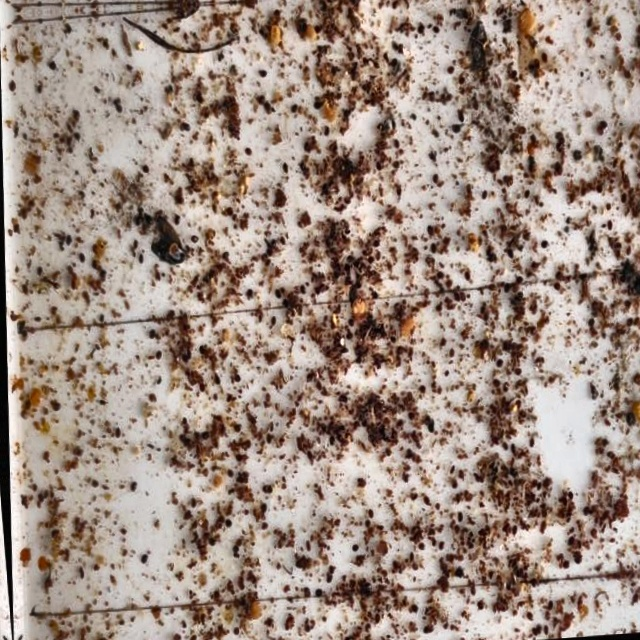varroa: (129, 476, 140, 494), (264, 609, 274, 628), (356, 552, 367, 567), (423, 88, 433, 104), (49, 526, 61, 539), (258, 499, 267, 516), (309, 100, 321, 112), (260, 483, 273, 494), (138, 161, 148, 175), (183, 508, 193, 522), (413, 23, 423, 37), (455, 567, 465, 581), (570, 150, 580, 164), (320, 121, 328, 138), (90, 477, 99, 492), (18, 281, 27, 296), (254, 68, 265, 80), (314, 587, 324, 600), (260, 520, 270, 533), (428, 24, 438, 37), (410, 600, 420, 613), (475, 600, 485, 613), (113, 426, 121, 442), (200, 609, 208, 625), (143, 212, 152, 226), (175, 119, 184, 133), (305, 446, 312, 464), (318, 419, 327, 433), (508, 468, 517, 482), (495, 357, 504, 371), (200, 428, 211, 439), (141, 550, 149, 565), (35, 490, 43, 505), (188, 231, 198, 243), (350, 542, 360, 554), (300, 138, 308, 153), (431, 304, 441, 316), (96, 268, 105, 281), (297, 282, 306, 295), (254, 95, 263, 108), (449, 124, 458, 137), (439, 540, 448, 553), (553, 142, 562, 155), (132, 212, 140, 226), (512, 522, 520, 536), (510, 444, 518, 458), (338, 394, 348, 405), (269, 8, 279, 19), (209, 436, 218, 448), (486, 254, 495, 266), (514, 366, 523, 378), (551, 162, 560, 174), (147, 326, 154, 341), (259, 99, 266, 114), (454, 110, 461, 125), (393, 184, 400, 199), (544, 609, 551, 624), (528, 435, 535, 450), (457, 291, 464, 306), (425, 225, 432, 240), (5, 78, 13, 91), (327, 562, 335, 575), (189, 495, 197, 508), (319, 182, 327, 195), (344, 251, 352, 264), (347, 317, 355, 330), (422, 494, 430, 507), (500, 381, 508, 394), (479, 190, 487, 203), (484, 246, 492, 259), (223, 518, 233, 528), (218, 249, 228, 259), (231, 544, 240, 555), (262, 259, 271, 270), (387, 333, 396, 344), (513, 275, 522, 286), (326, 573, 334, 585), (197, 342, 205, 354), (287, 103, 295, 115), (427, 421, 435, 433), (89, 257, 96, 270), (76, 251, 83, 264), (280, 161, 287, 174), (328, 434, 335, 447), (373, 159, 380, 172), (463, 270, 470, 283), (505, 248, 512, 261), (522, 188, 529, 201), (136, 251, 142, 266), (233, 550, 242, 560), (243, 288, 252, 298), (263, 248, 272, 258), (596, 122, 606, 131), (46, 58, 54, 69), (113, 103, 121, 114), (280, 298, 288, 309), (396, 22, 404, 33), (444, 64, 452, 75), (434, 270, 442, 281), (514, 291, 522, 302), (492, 378, 500, 389), (518, 411, 526, 422), (552, 283, 560, 294), (154, 349, 161, 361), (213, 588, 219, 602), (268, 313, 275, 325), (456, 75, 463, 87), (430, 174, 437, 186), (390, 138, 397, 150), (503, 282, 510, 294), (554, 271, 561, 283), (207, 537, 216, 546), (78, 570, 86, 580), (232, 422, 240, 432), (180, 353, 188, 363), (242, 147, 252, 155), (173, 212, 179, 225), (265, 432, 271, 445), (457, 512, 463, 525), (71, 130, 78, 141), (197, 382, 204, 393), (181, 122, 188, 133), (390, 159, 397, 170), (527, 611, 534, 622), (226, 468, 234, 477), (224, 393, 233, 401), (232, 372, 240, 381), (274, 288, 280, 300), (547, 601, 555, 610), (501, 443, 509, 452), (503, 405, 509, 417), (65, 146, 72, 156), (234, 624, 241, 634), (212, 373, 219, 383), (332, 269, 339, 279), (342, 262, 349, 272), (530, 578, 537, 588), (429, 241, 434, 255), (64, 234, 70, 245), (305, 623, 311, 634), (367, 509, 373, 520), (268, 239, 274, 250), (234, 455, 242, 463), (258, 254, 266, 262), (312, 24, 320, 32), (540, 242, 548, 250), (90, 244, 97, 253), (346, 332, 353, 341), (237, 537, 242, 549), (269, 420, 274, 432), (183, 437, 190, 445), (178, 433, 186, 440), (594, 131, 601, 139), (342, 197, 347, 208), (452, 291, 457, 302), (21, 408, 26, 418), (365, 519, 370, 529), (452, 526, 457, 536), (532, 628, 537, 637), (339, 424, 343, 431)
